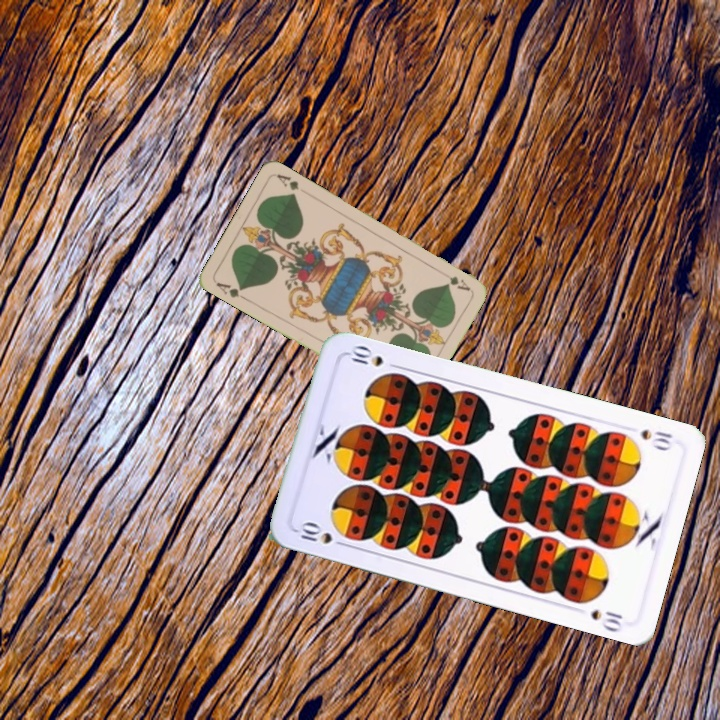GA: (212, 278, 249, 303), (445, 272, 473, 294)
S10: (293, 518, 351, 550), (637, 425, 675, 453)
